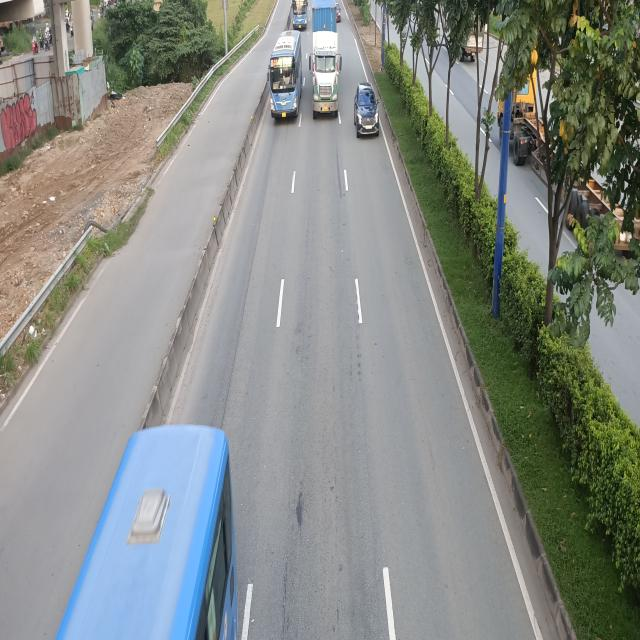car: (353, 82, 379, 138)
coach: (267, 30, 303, 120), (289, 1, 309, 31)
container: (310, 2, 343, 117)
